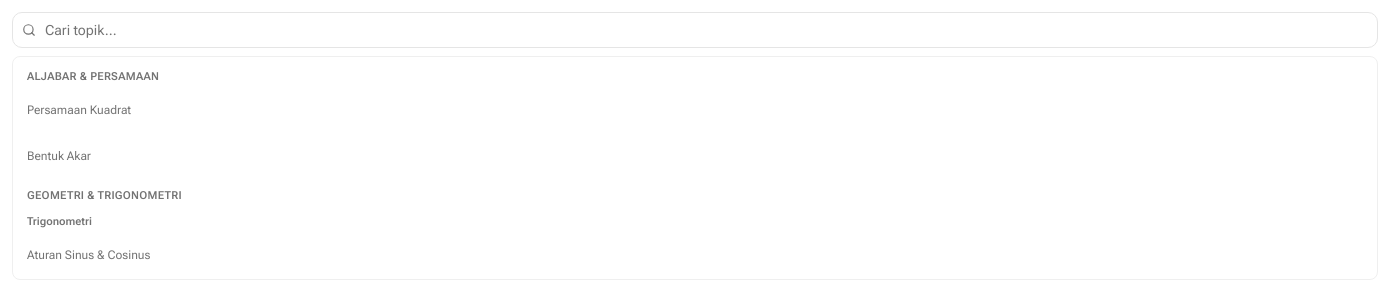
Scenario: TopicPicker › pencarian menyaring dan menampilkan jalur lengkap
Type "sinus" into the field labelled "Cari topik" at (695, 30), box [12,12,1378,48]
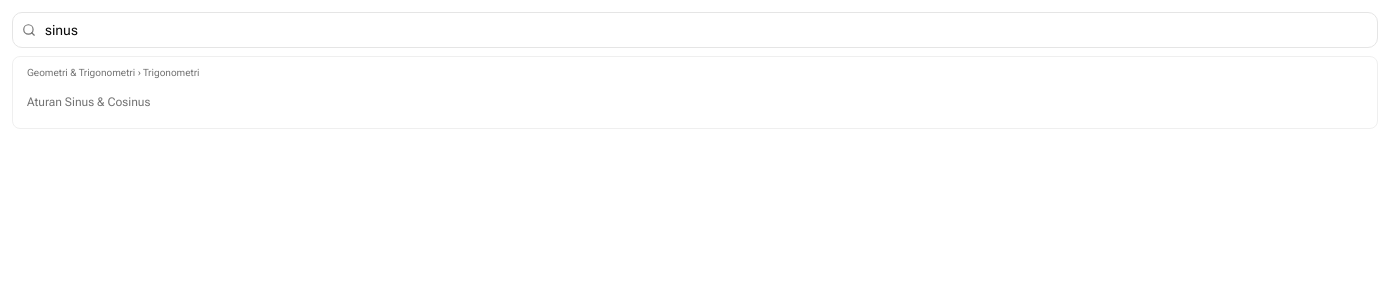
Check: the button "Aturan Sinus & Cosinus" is shown, box [17,80,1373,124]
Check: the text "Geometri & Trigonometri › Trigonometri" is shown, box [27,67,200,78]
